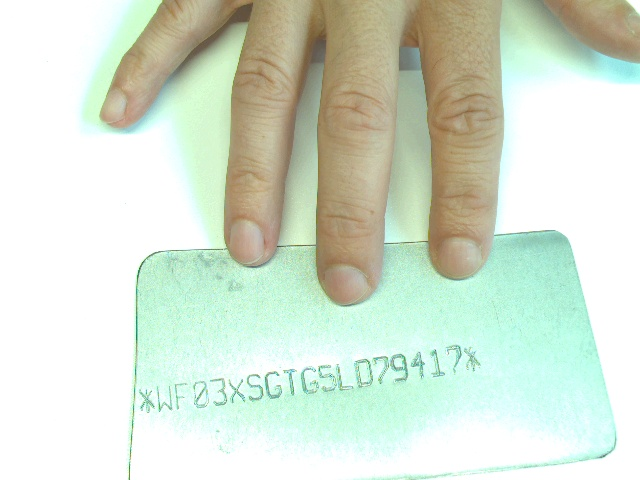0: (192, 380, 211, 408)
1: (427, 348, 447, 378)
3: (211, 378, 229, 407)
4: (409, 351, 426, 379)
5: (318, 364, 338, 393)
7: (445, 343, 464, 374), (373, 354, 390, 385)
9: (390, 353, 411, 383)
d: (353, 357, 374, 390)
f: (173, 382, 189, 412)
g: (264, 369, 284, 401), (299, 366, 320, 395)
l: (336, 362, 354, 391)
s: (245, 371, 265, 403)
t: (283, 368, 299, 398)
w: (154, 384, 175, 412)
x: (228, 376, 247, 404)
